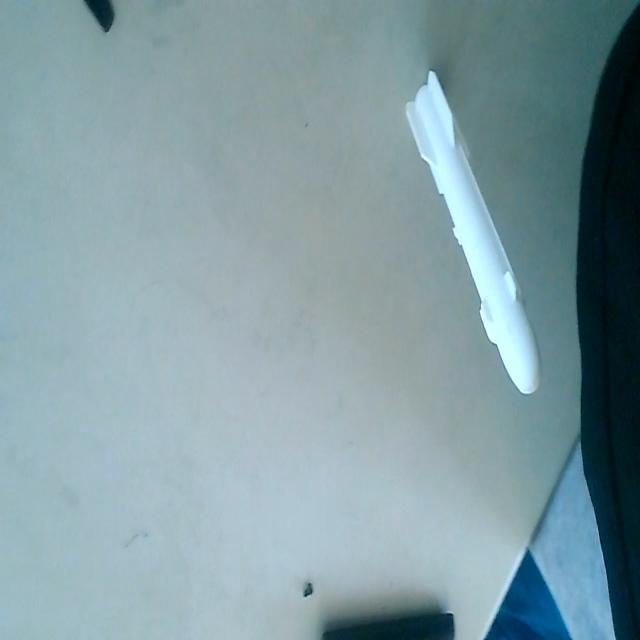Rocket: (403, 58, 545, 400)
